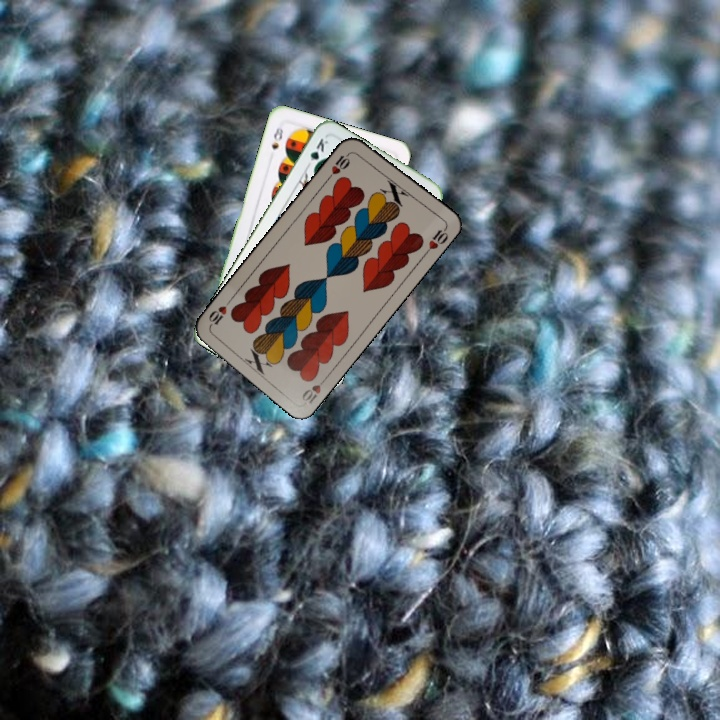GK: (302, 134, 331, 173)
H10: (298, 372, 331, 407), (324, 148, 354, 182)
S8: (267, 123, 286, 152)
